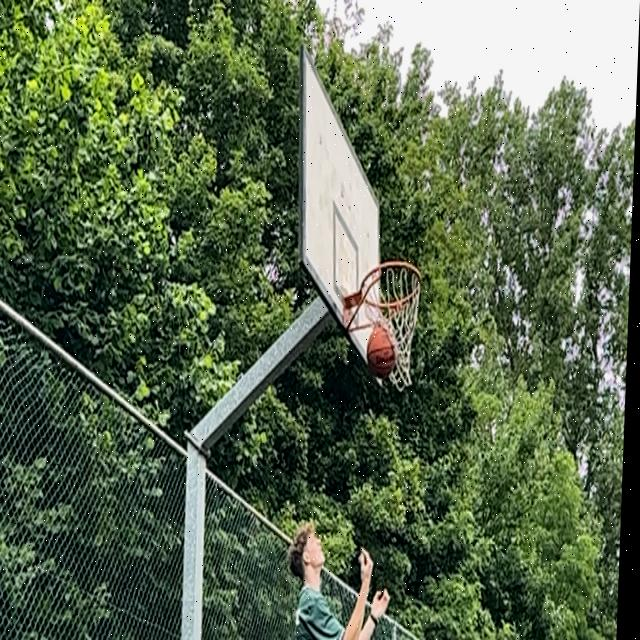Basketball: (366, 324, 399, 378)
